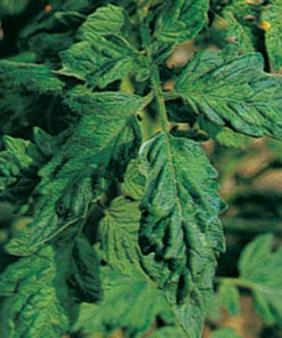Tomato leaf mosaic virus: (128, 137, 227, 338), (28, 88, 148, 244), (0, 226, 100, 338), (176, 51, 282, 147), (50, 43, 153, 86), (146, 0, 208, 52)
